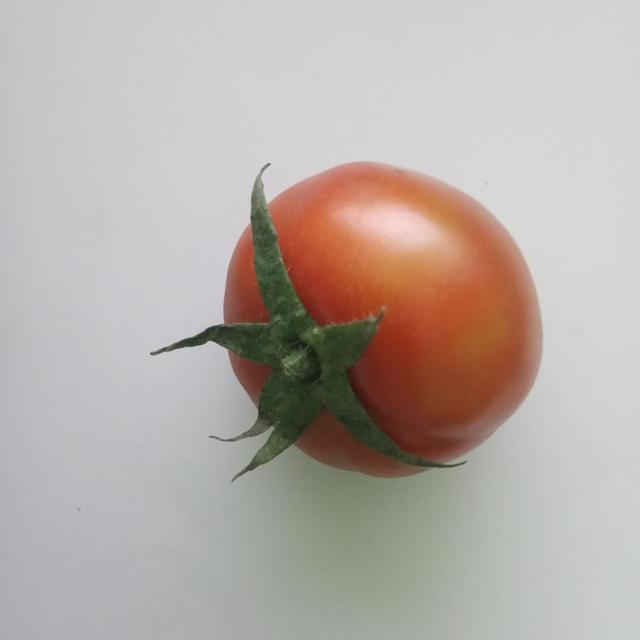Healthy Fruit: (143, 103, 367, 323)
